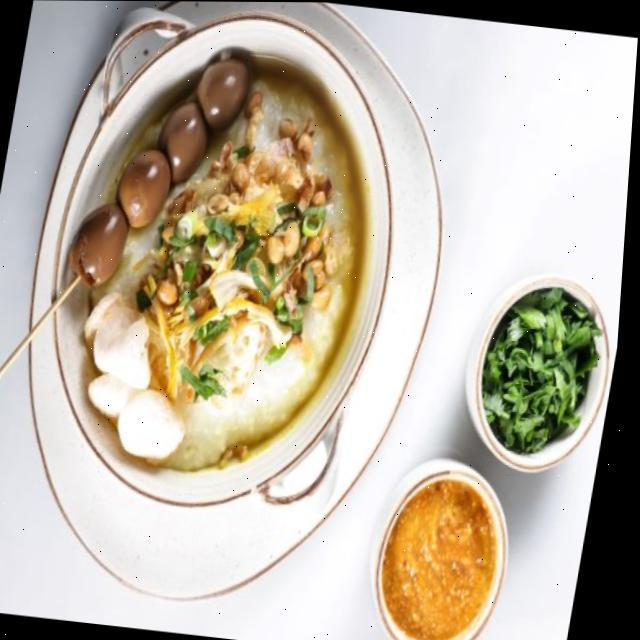bubur ayam: (57, 36, 394, 482)
mangkuk: (1, 0, 430, 531), (447, 262, 622, 480), (354, 449, 524, 640)
sambal: (370, 469, 510, 640)
